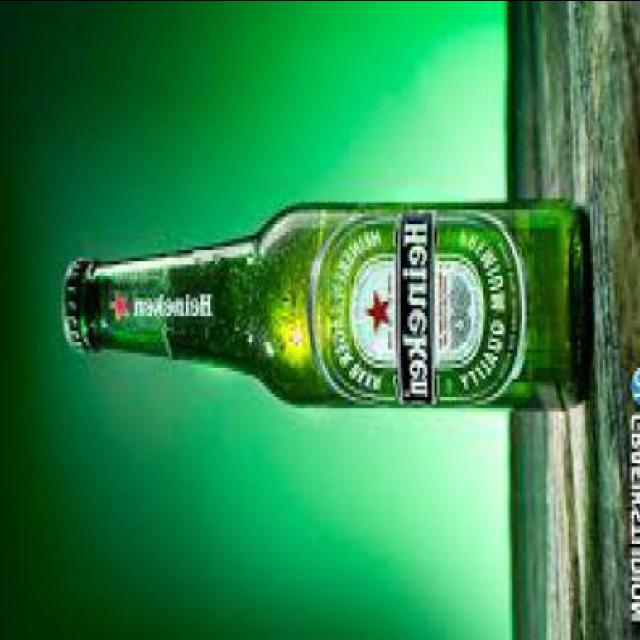kaca: (76, 194, 590, 404)
